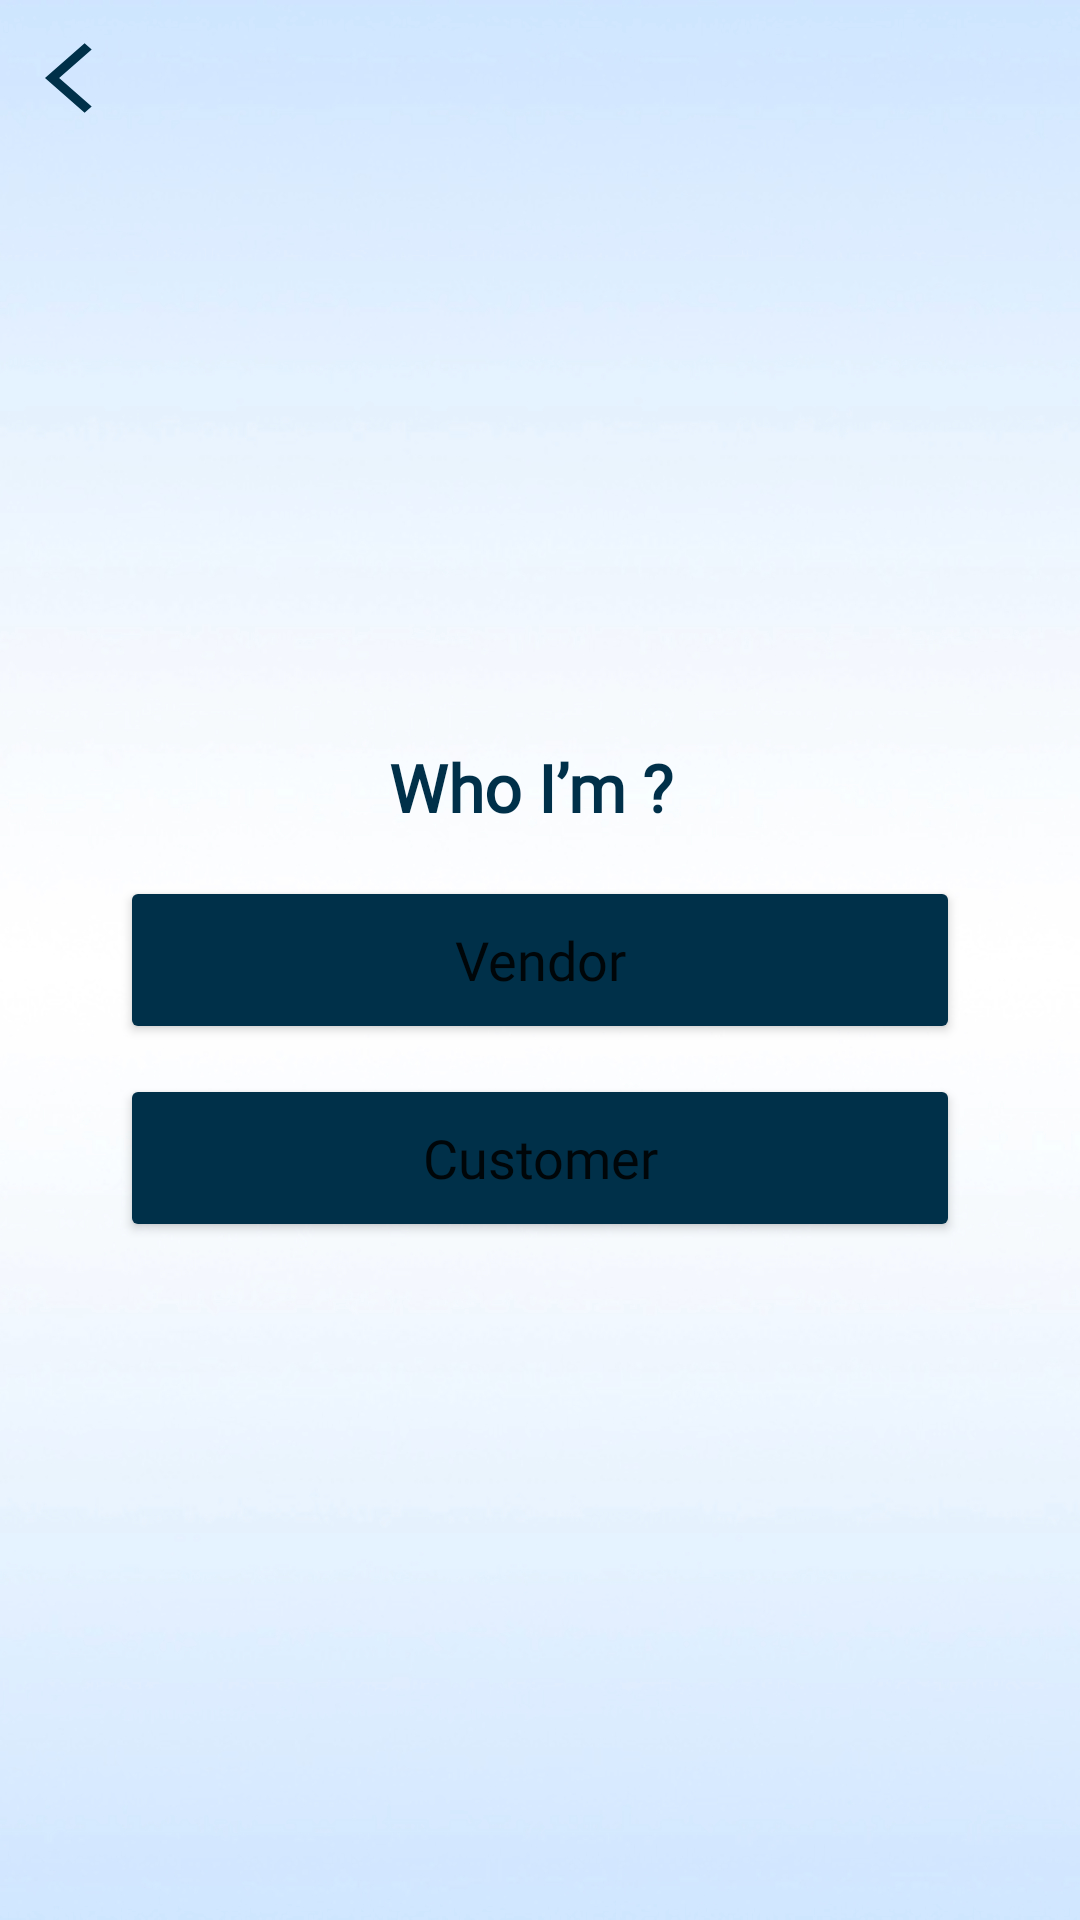

Where to tap for icons on this 1080 × 1920 app screen, as point (x, y):
arrow back: point (68, 78)
